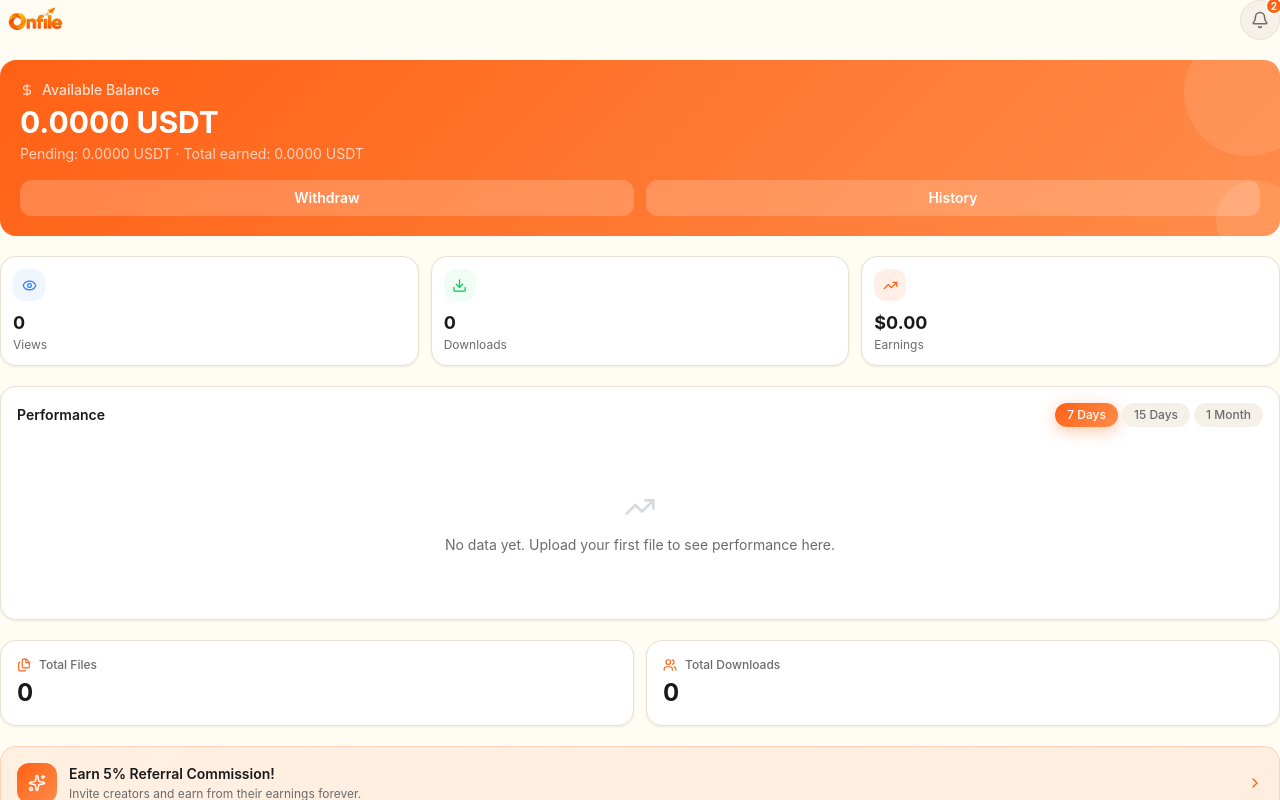
Test case: Notification screen › marking one notification read updates the item and the unread count immediately and tells the server
Click the button with test id "notifications-bell". click: (1260, 20)
box: [1240, 0, 1279, 40]
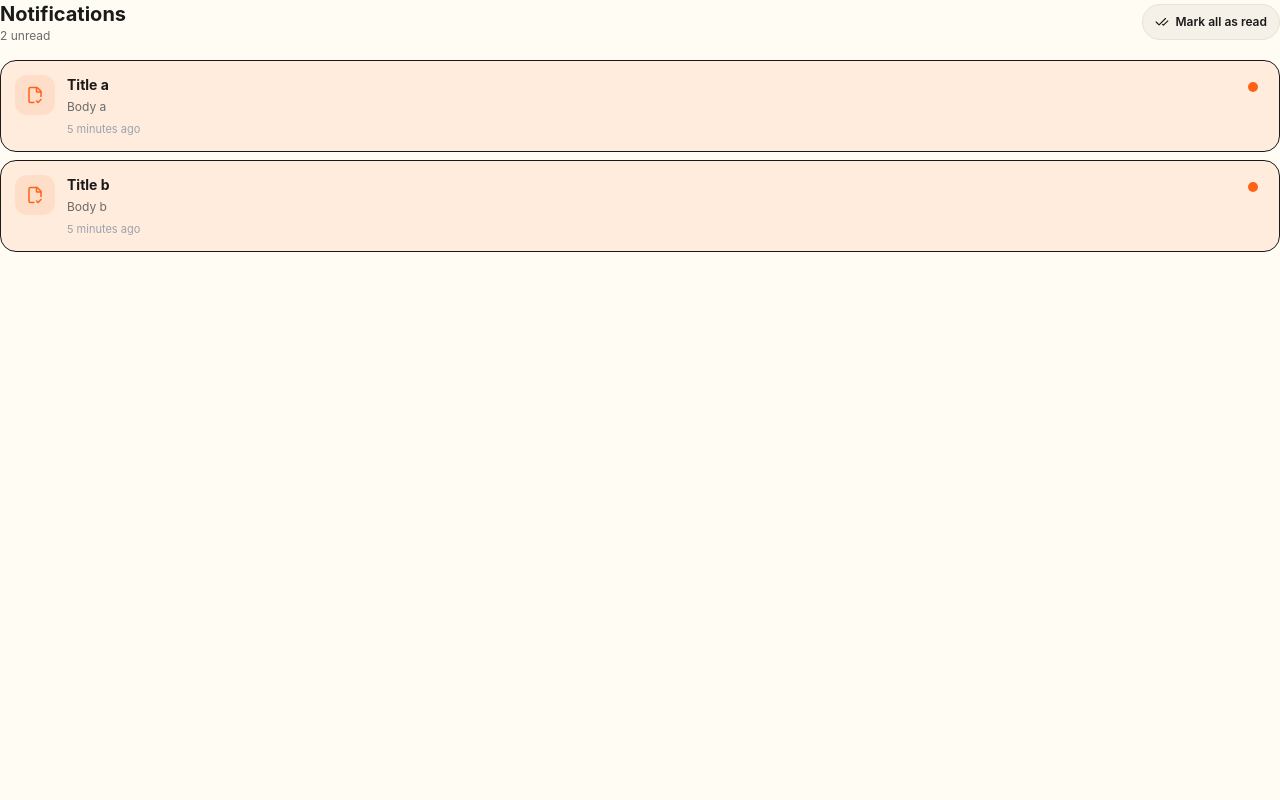
Result: the text with test id "notifications-subtitle" reads "2 unread" at [0, 28, 50, 43]
Click the 1st button with test id "notification-mark-read". click: (1253, 87)
box: [1237, 71, 1269, 103]
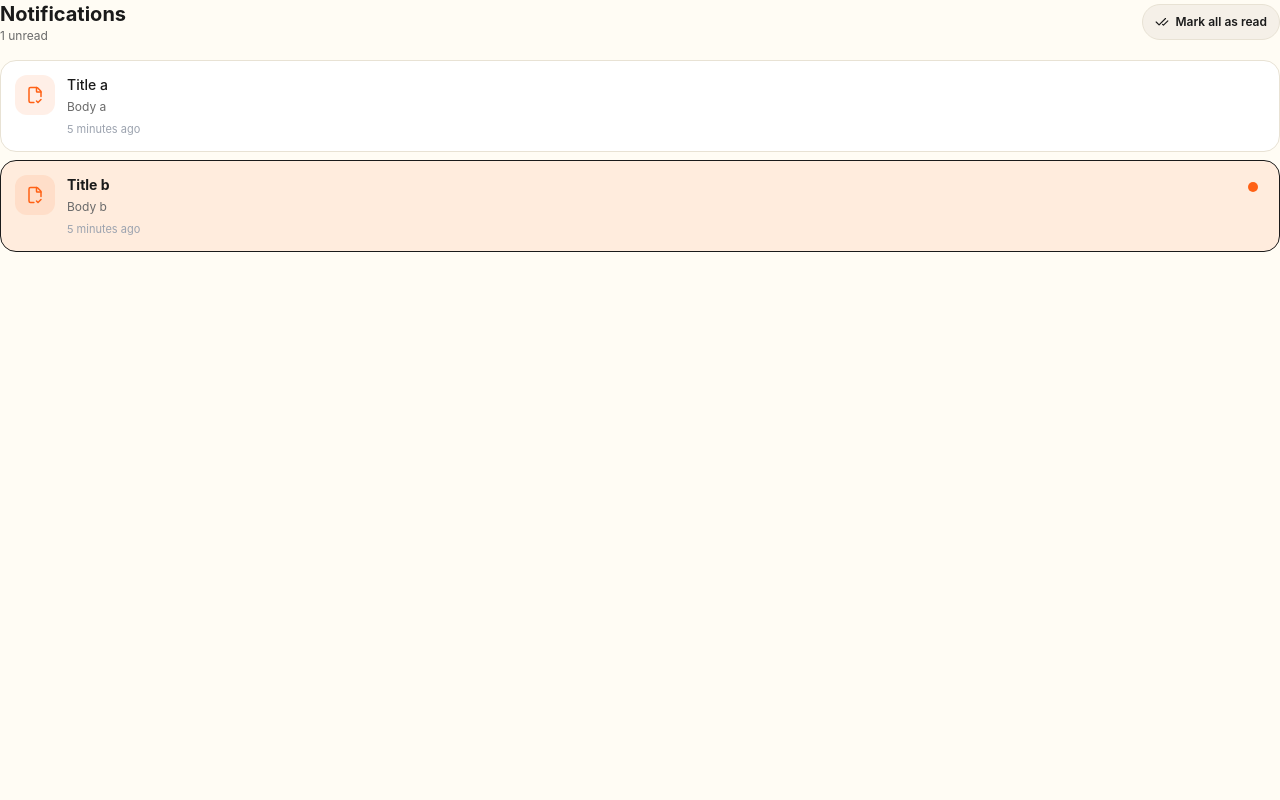
Result: the text with test id "notifications-subtitle" reads "1 unread" at [0, 28, 48, 43]
